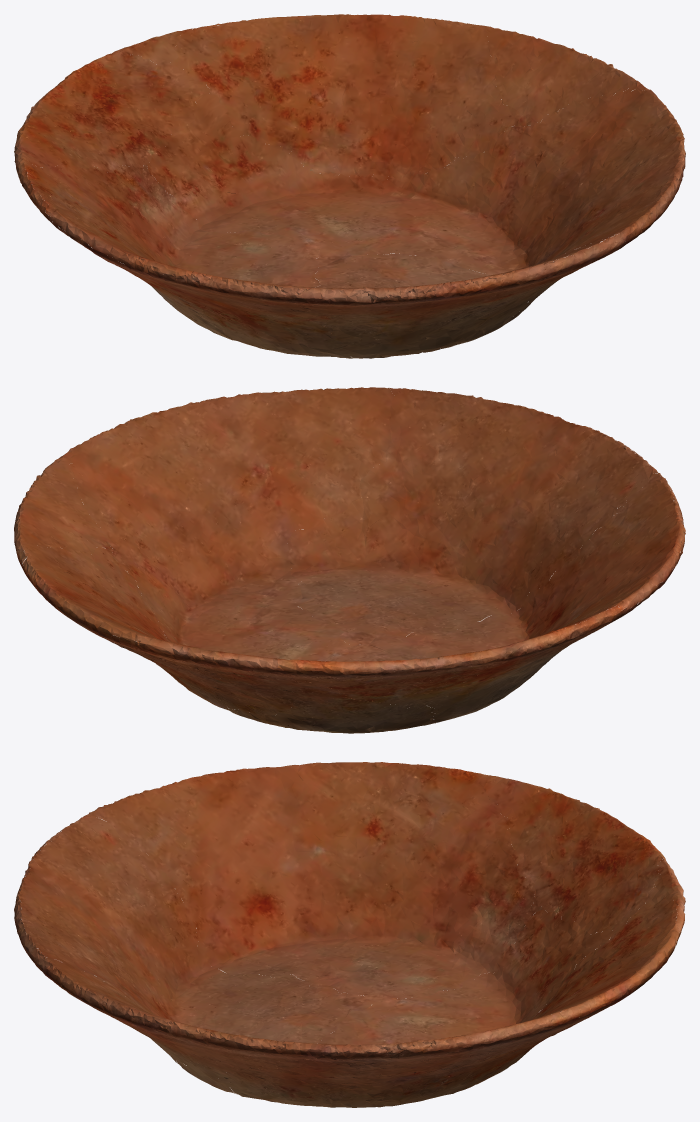
The picture shows the model from 3 angles, top to bottom: view 1: azimuth 30°, elevation 25°; view 2: azimuth 150°, elevation 25°; view 3: azimuth 270°, elevation 25°; orthographic projection.
Visible parts, largest first — view 1: No borrar; view 2: No borrar; view 3: No borrar.
Part boxes in pixels (x1,y1,x2,y2): No borrar: (14,14,685,358); No borrar: (14,387,685,733); No borrar: (14,762,685,1107).
Bounding box in the file's own units: 0.2373 × 0.0525 × 0.2367.
Materials: 1 (1 with a texture image).
